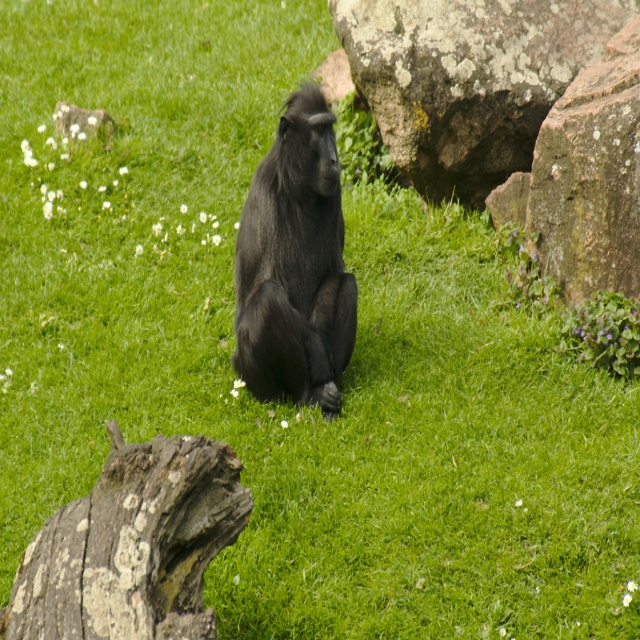Monkey: (232, 75, 360, 421)
